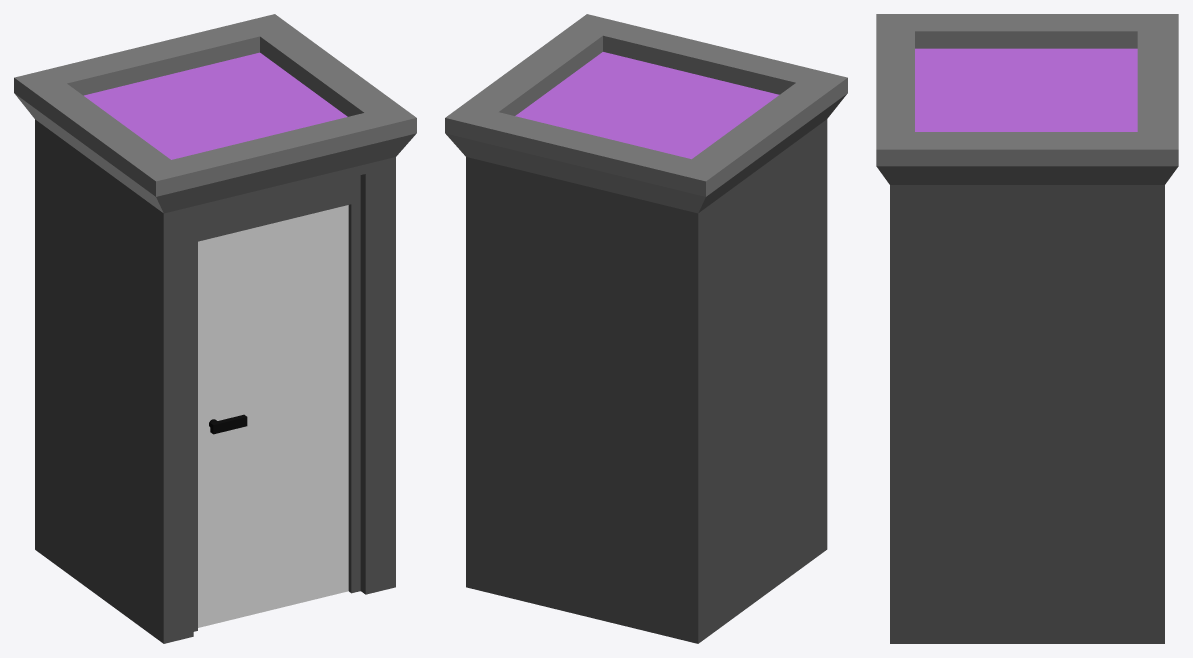
The model's file is staires.fbx.
3 renders of one model, left to right at view 1: azimuth 30°, elevation 25°; view 2: azimuth 150°, elevation 25°; view 3: azimuth 270°, elevation 25°, orthographic. The views are drawn at different scales.
Parts seen in each view (by area): view 1: Cube; view 2: Cube; view 3: Cube.
Boxes of the visible parts, x1,y1,x2,y2 form: Cube: (14, 14, 416, 643); Cube: (445, 14, 847, 643); Cube: (876, 14, 1178, 643).
Size of the model in its own units: 541 by 933 by 510.
